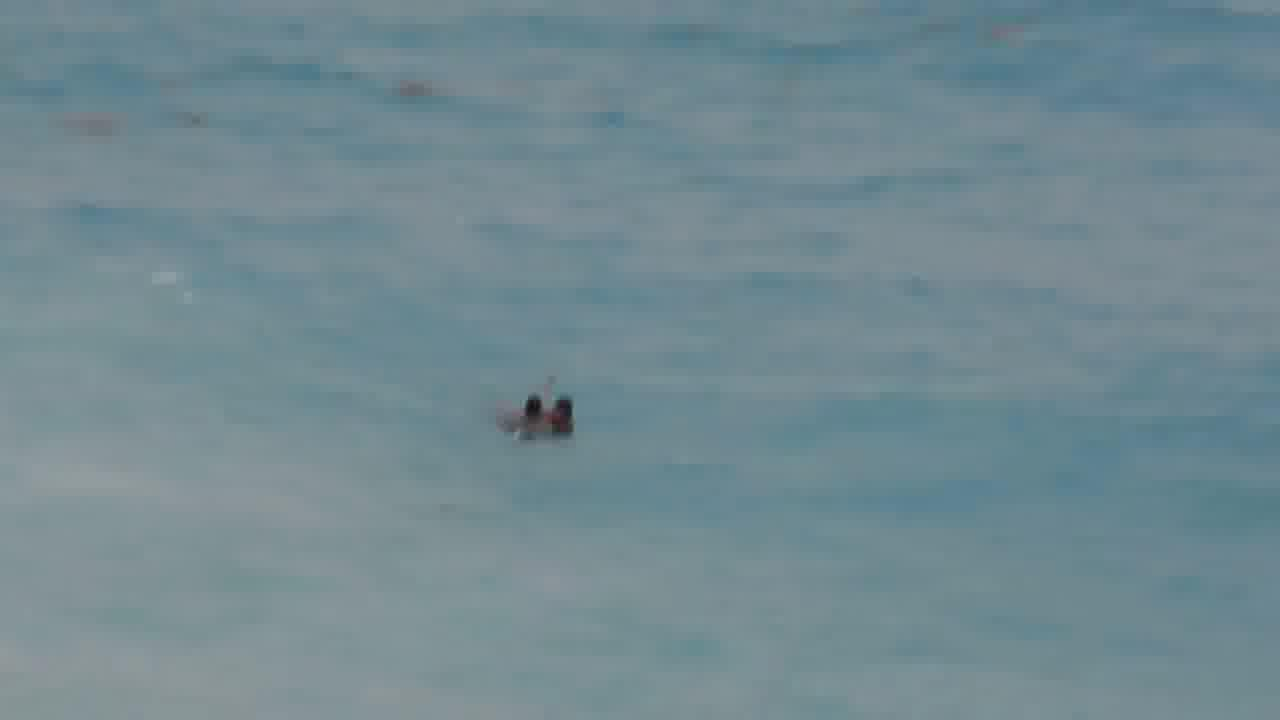human: (501, 384, 592, 450)
